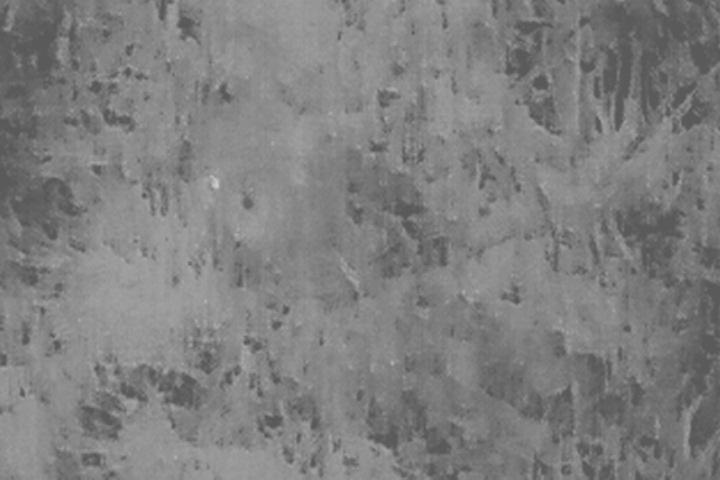landmine: (225, 165, 298, 241)
